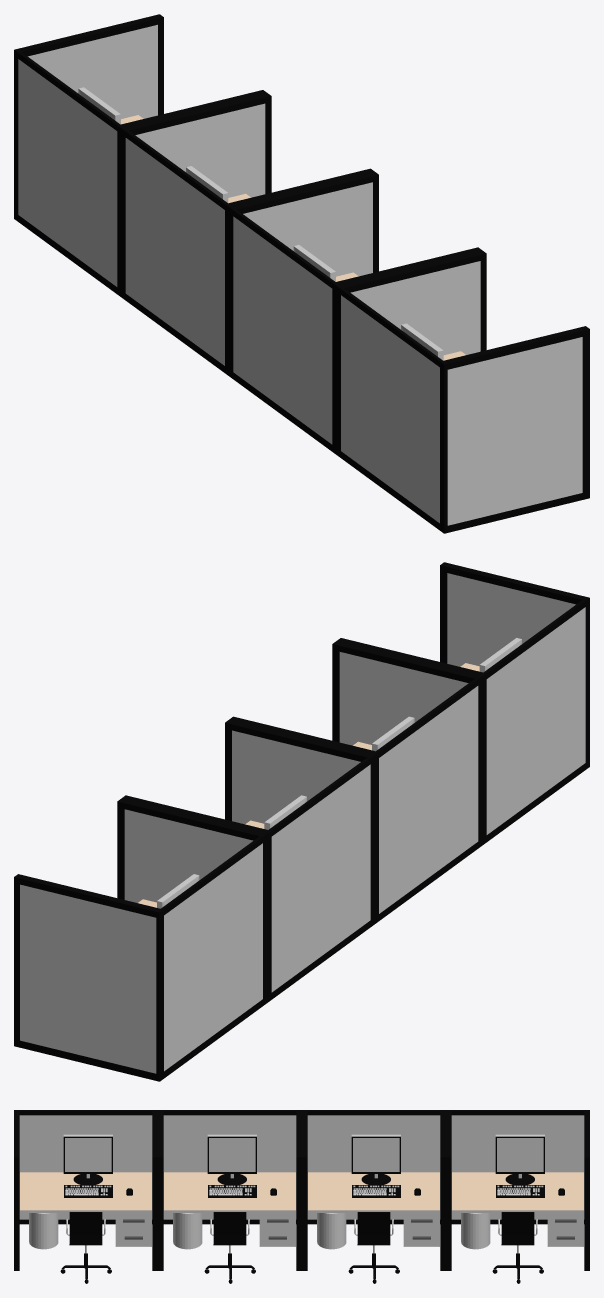
Rendered from office cubical 4 row.fbx.
3 renders of one model, top to bottom at view 1: azimuth 30°, elevation 25°; view 2: azimuth 150°, elevation 25°; view 3: azimuth 270°, elevation 25°, orthographic. The views are drawn at different scales.
Visible parts, largest first — view 1: Cylinder; view 2: Cylinder; view 3: Cylinder.
Boxes of the visible parts, x1,y1,x2,y2 form: Cylinder: (14, 14, 589, 533); Cylinder: (14, 562, 589, 1081); Cylinder: (14, 1110, 589, 1283).
Size of the model in its own units: 728 by 647 by 2950.
